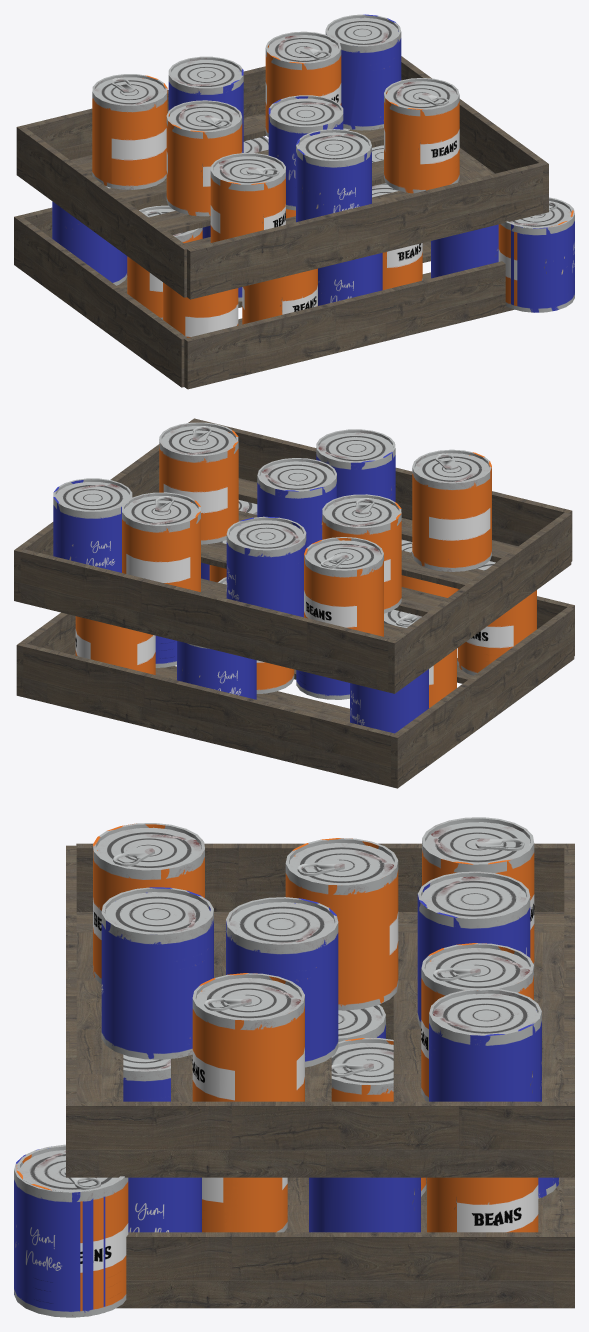
File: FoodCart.fbx
3 renders of one model, top to bottom at view 1: azimuth 30°, elevation 25°; view 2: azimuth 150°, elevation 25°; view 3: azimuth 270°, elevation 25°, orthographic. The views are drawn at different scales.
Parts seen in each view (by area): view 1: FoodPack, Noodles, Beans; view 2: FoodPack; view 3: FoodPack, Noodles, Beans.
Boxes of the visible parts, x1,y1,x2,y2 form: FoodPack: (14, 14, 548, 389); Noodles: (508, 198, 574, 312); Beans: (498, 197, 573, 309); FoodPack: (14, 418, 574, 788); FoodPack: (66, 817, 574, 1308); Noodles: (14, 1146, 121, 1317); Beans: (16, 1144, 128, 1316).
Bounding box in the file's own units: 55054 × 24313 × 46519.
